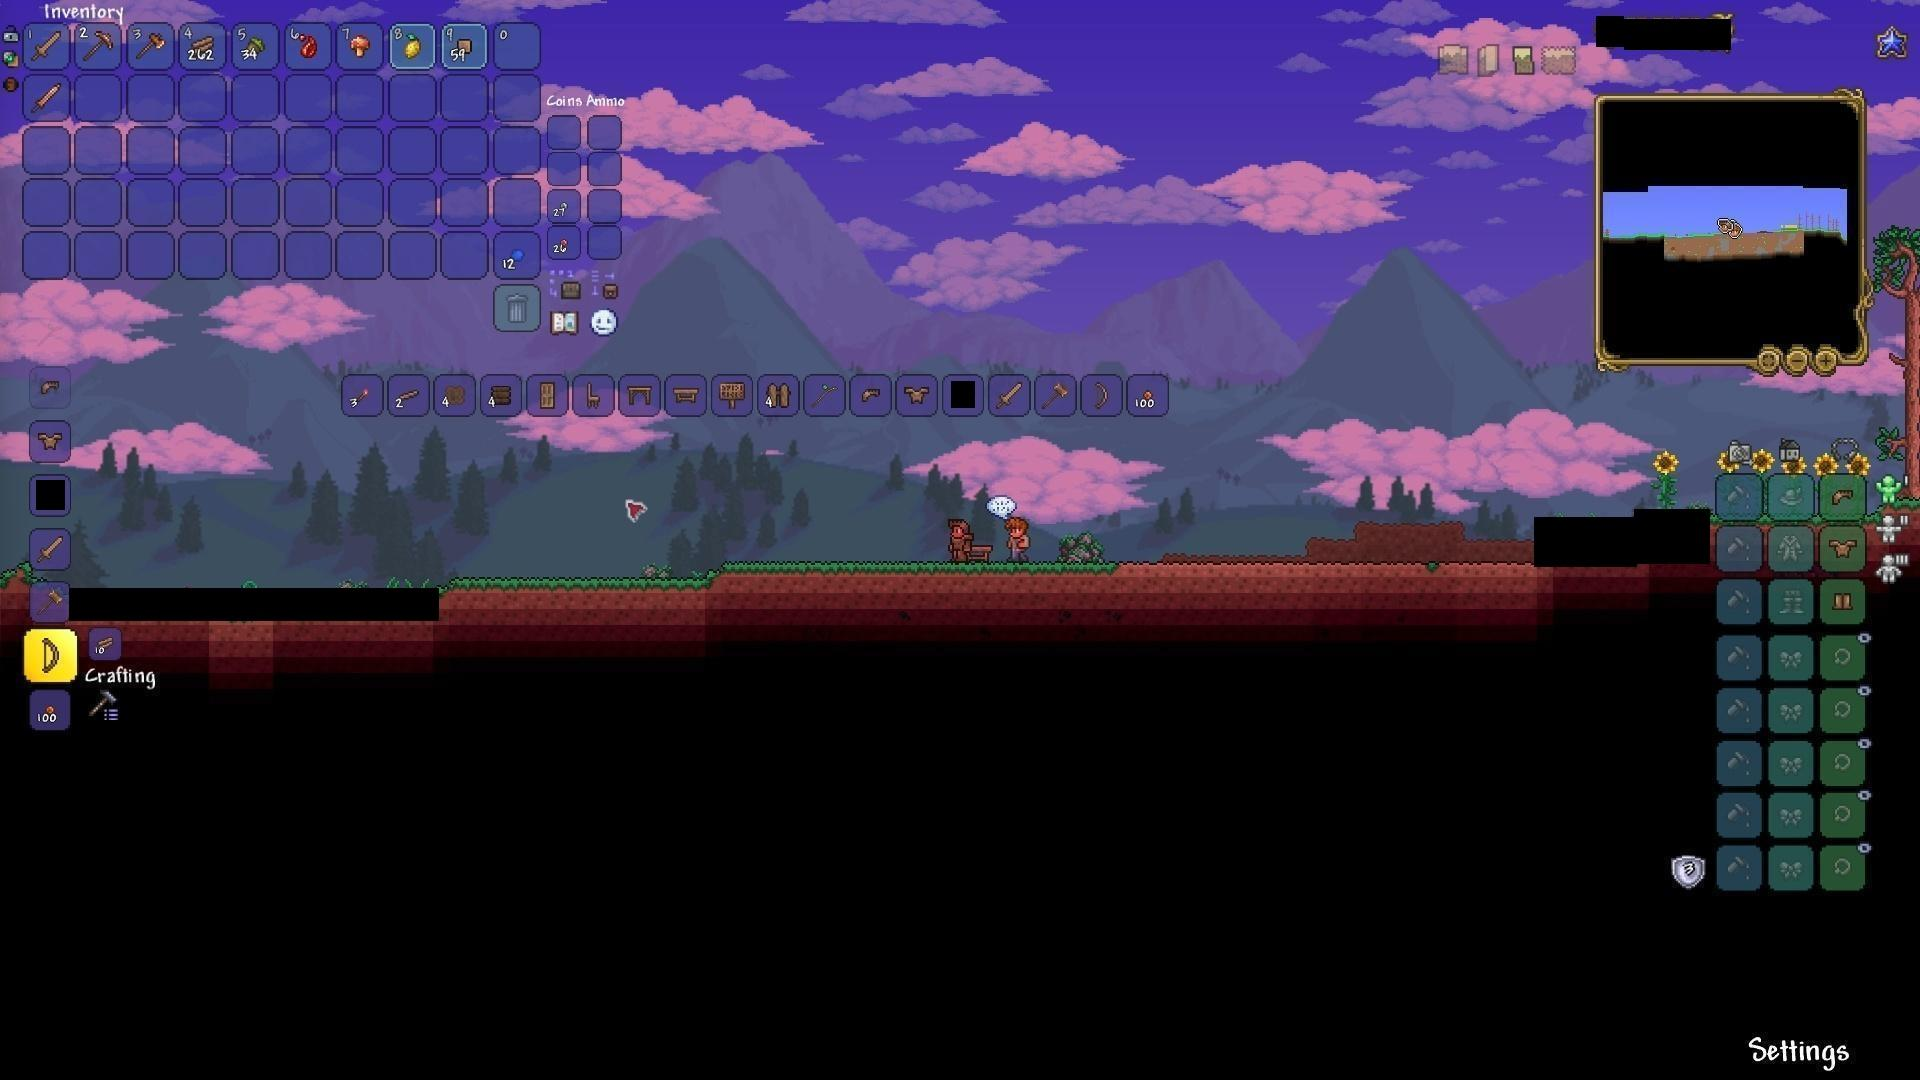breastplate: (1830, 537, 1859, 559), (36, 431, 65, 452), (903, 384, 932, 404)
dirt: (704, 563, 1124, 621), (444, 575, 700, 632)
helmet: (1829, 483, 1859, 510), (856, 381, 886, 409), (34, 375, 63, 401)
legs: (1830, 587, 1855, 617)
tree: (1887, 222, 1920, 480)
wood: (189, 32, 218, 59), (87, 630, 116, 658)
workbench: (670, 382, 705, 407), (968, 539, 1000, 562)
